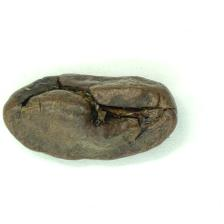NG: (14, 74, 160, 146)
